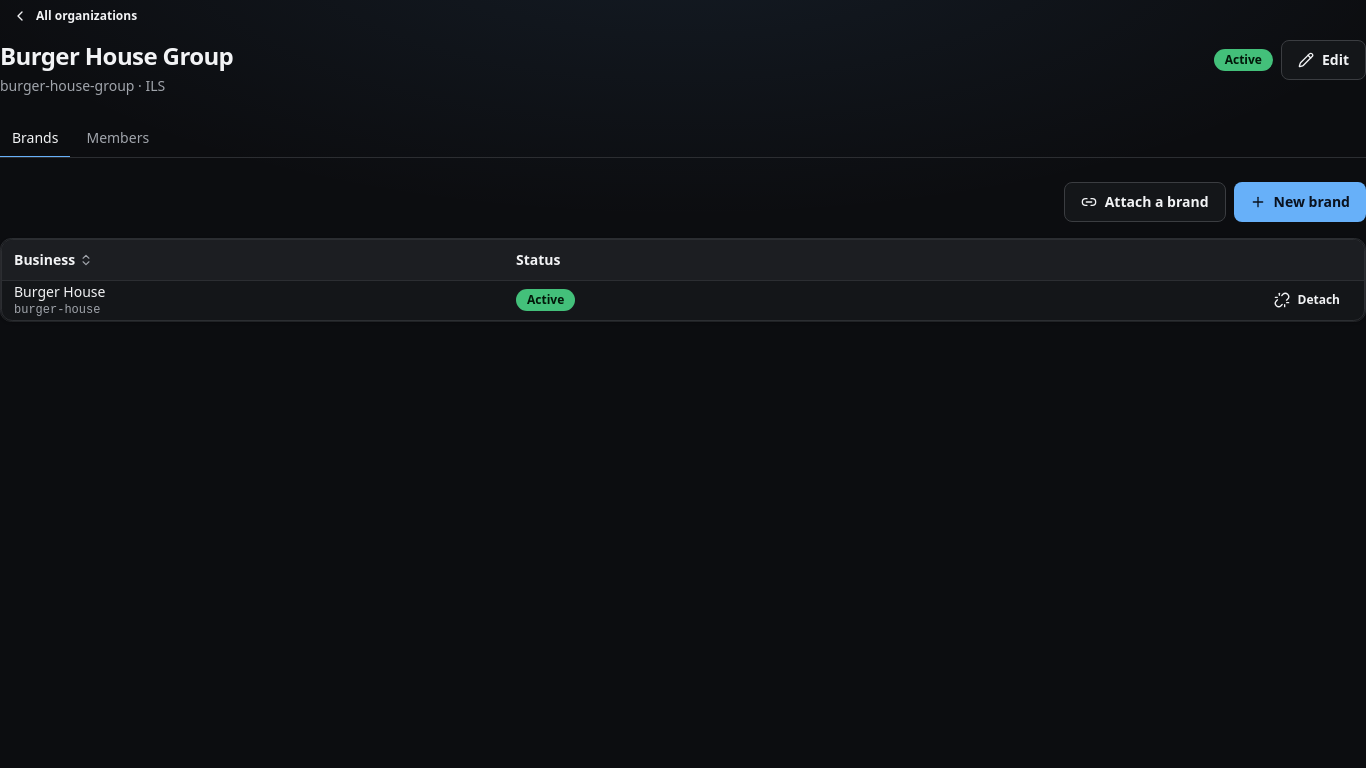
Test: OrganizationDetailPage brands › shows the currency mismatch when a brand uses another currency
This screenshot has width=1366, height=768.
Click the button "Attach a brand" at (1145, 202), box left=1064, top=182, right=1226, bottom=222
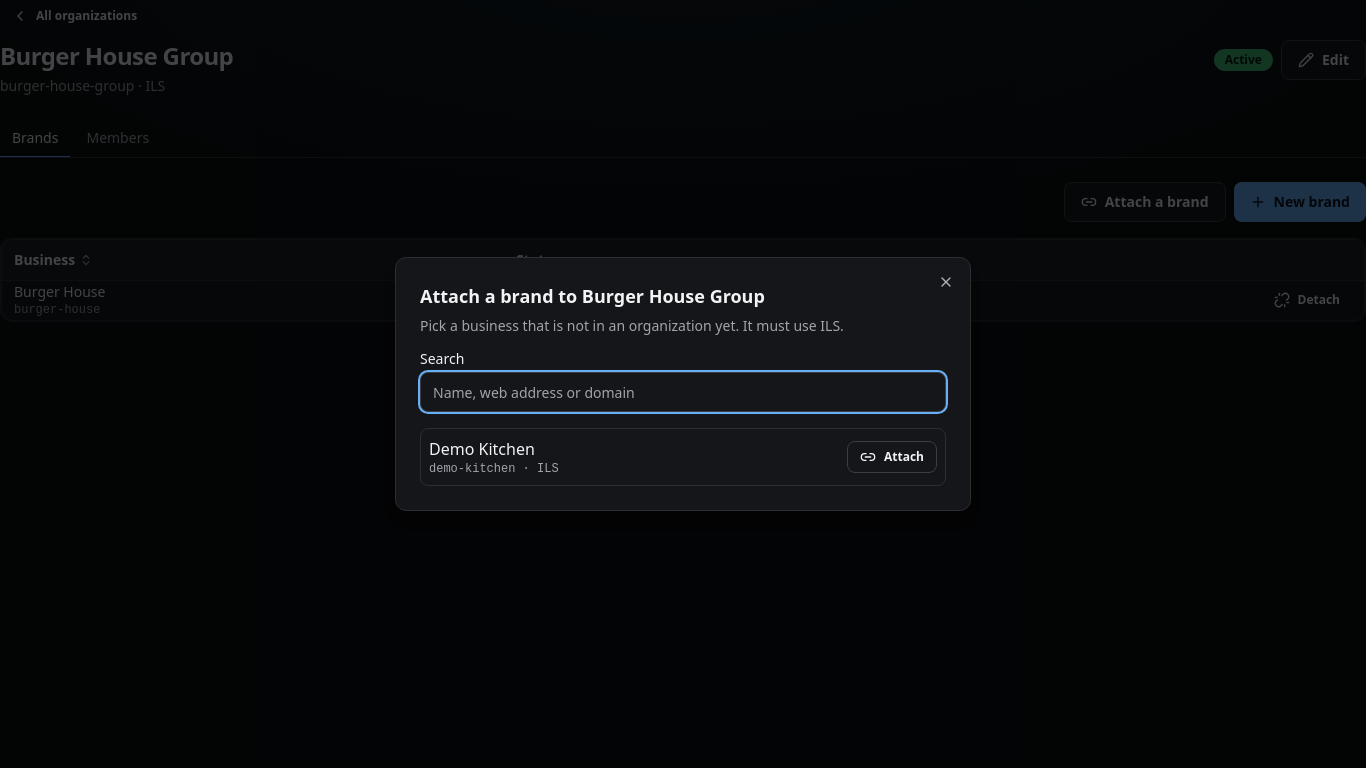
Click the button with aria-label "Attach: Demo" at (892, 457), box left=847, top=441, right=937, bottom=473
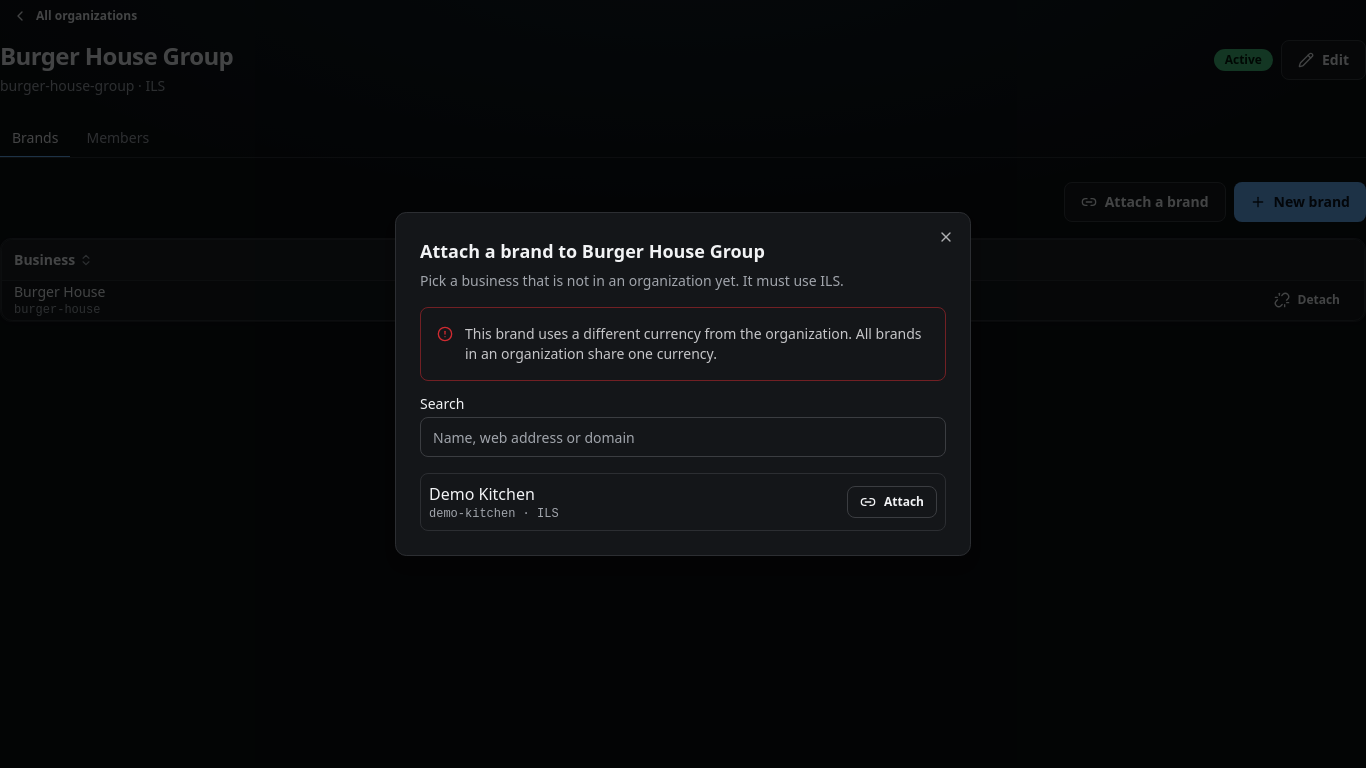
expect the text "different currency" is shown: met, box left=465, top=324, right=922, bottom=363
